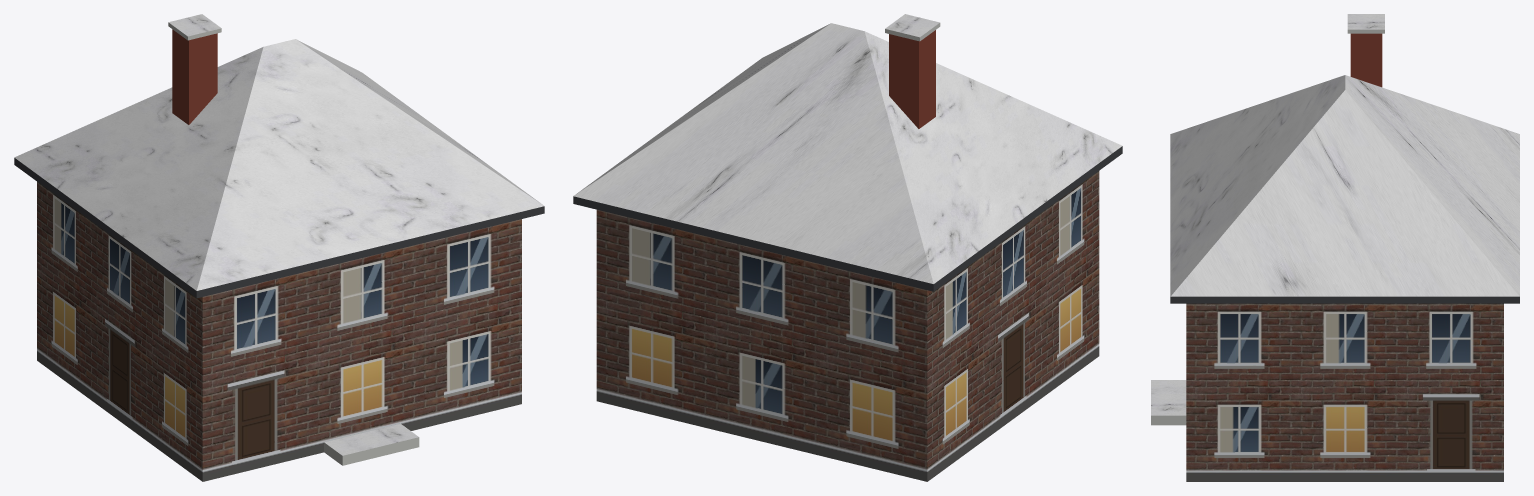
The model's file is c_house1.glb.
3 views of the same model, side by side, from view 1: azimuth 30°, elevation 25°; view 2: azimuth 150°, elevation 25°; view 3: azimuth 270°, elevation 25° (orthographic). The views are drawn at different scales.
Visible parts, largest first — view 1: House; view 2: House; view 3: House.
Boxes of the visible parts, bbox=[...] form: House: bbox=[14, 14, 544, 481]; House: bbox=[573, 14, 1122, 481]; House: bbox=[1151, 14, 1519, 481].
Size of the model in its own units: 10.9 by 10.98 by 10.45.
3 materials, 3 textured.
